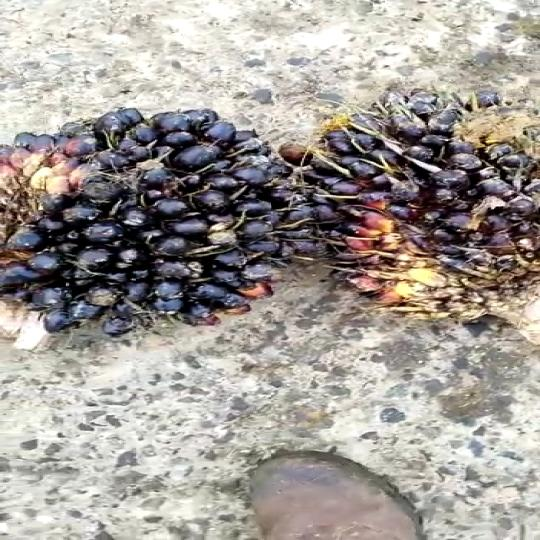mentah: (0, 57, 370, 398), (298, 61, 540, 395)
